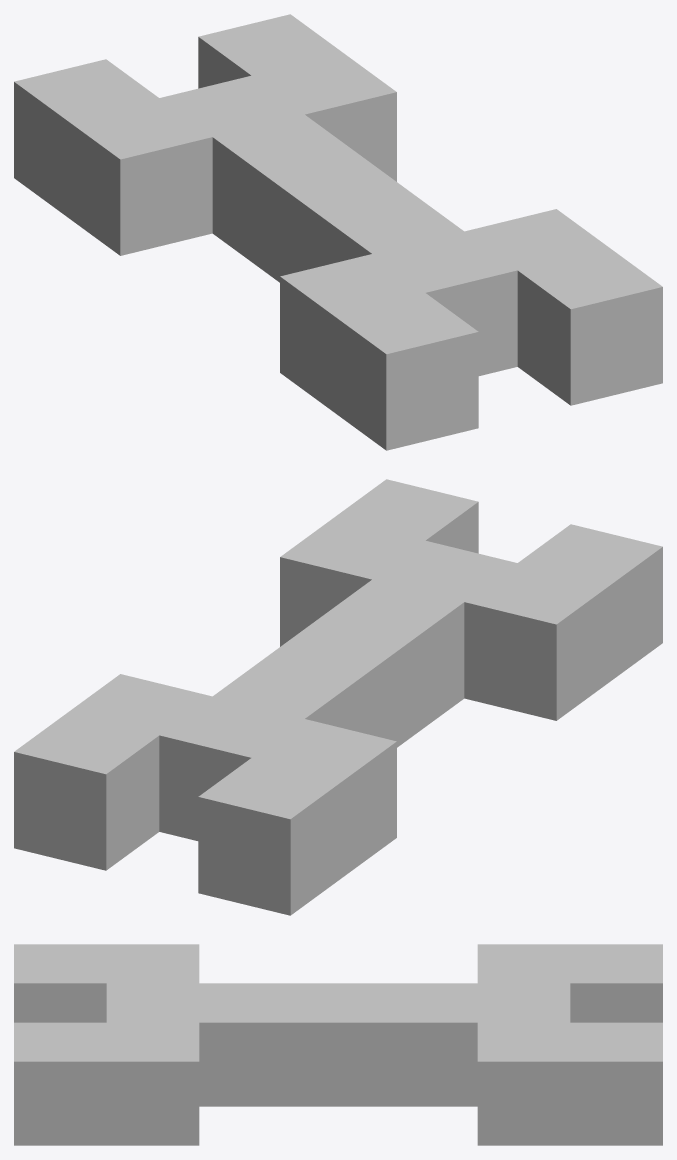
The model's file is Bones-2.obj.
3 renders of one model, top to bottom at view 1: azimuth 30°, elevation 25°; view 2: azimuth 150°, elevation 25°; view 3: azimuth 270°, elevation 25°, orthographic. The views are drawn at different scales.
Size of the model in its own units: 0.3 by 0.1 by 0.7.
1 material, 1 textured.
